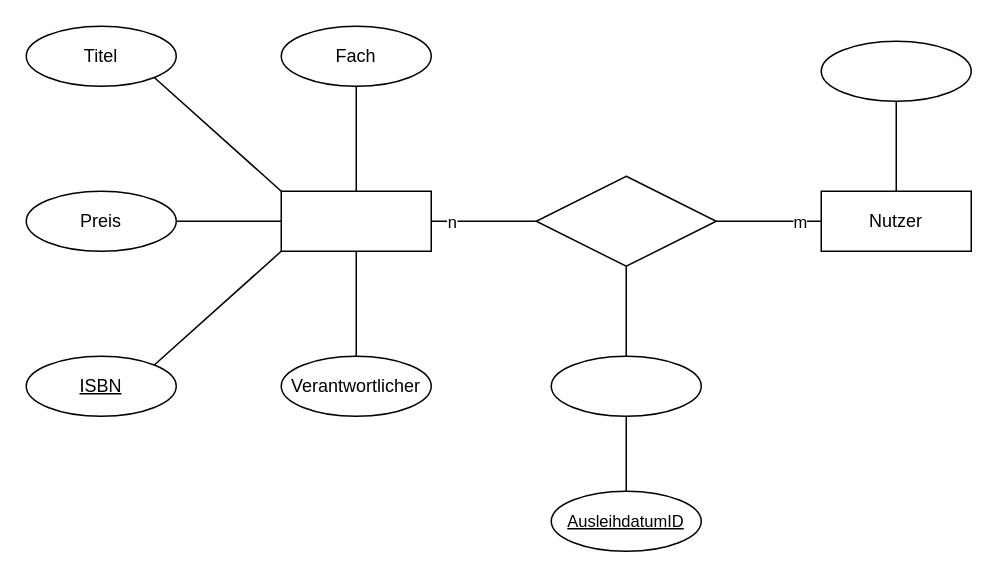
This 998x578 diagram has some shape labels left out. Here are the shapes that lost their labels. From the top down, the box of each, then its label:
(820, 40, 971, 101): NutzerID
(280, 190, 431, 251): Medium
(535, 175, 716, 266): leiht aus
(550, 355, 701, 416): Ausleihdatum
